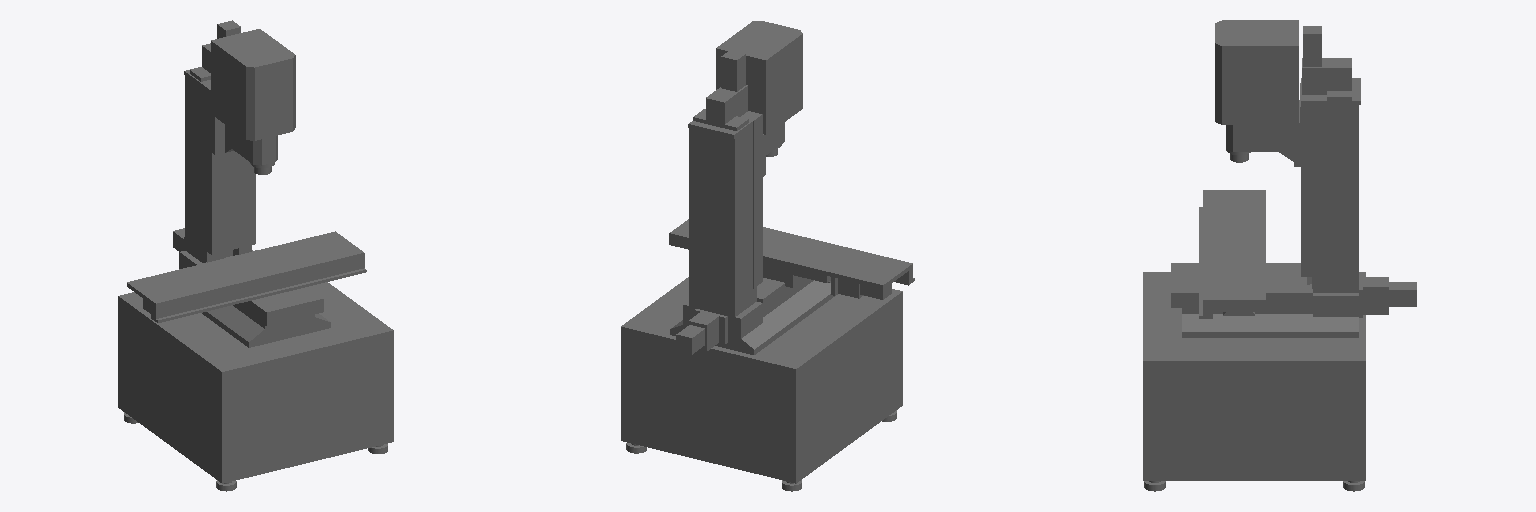
robot.urdf — tormach_pcnc_1100:
<?xml version="1.0" ?>
<!-- =================================================================================== -->
<!-- |    This document was autogenerated by xacro from tormach_pcnc_1100.xacro        | -->
<!-- |    EDITING THIS FILE BY HAND IS NOT RECOMMENDED                                 | -->
<!-- =================================================================================== -->
<robot name="tormach_pcnc_1100" xmlns:xacro="http://www.ros.org/wiki/xacro">
  <material name="DarkGray">
    <color rgba="0.5 0.5 0.5 0.99"/>
  </material>
  <!-- link list -->
  <link name="frame">
    <visual>
      <geometry>
        <mesh filename="package://tormach_pcnc_1100_support/meshes/frame.stl"/>
      </geometry>
      <origin rpy="0.0 0 0.0" xyz="0 0 0"/>
      <material name="DarkGray">
        </material>
    </visual>
    <collision>
      <geometry>
        <mesh filename="package://tormach_pcnc_1100_support/meshes/frame.stl"/>
      </geometry>
      <origin rpy="0.0 0 0.0" xyz="0 0 0"/>
    </collision>
  </link>
  <link name="y_axis">
    <visual>
      <geometry>
        <mesh filename="package://tormach_pcnc_1100_support/meshes/y_slide.stl"/>
      </geometry>
      <origin rpy="0.0 0 0.0" xyz="0 0 0"/>
      <material name="DarkGray">
        </material>
    </visual>
    <collision>
      <geometry>
        <mesh filename="package://tormach_pcnc_1100_support/meshes/y_slide.stl"/>
      </geometry>
      <origin rpy="0.0 0 0.0" xyz="0 0 0"/>
    </collision>
    <inertial>
      <mass value="100"/>
      <inertia ixx="1.0" ixy="0.0" ixz="0.0" iyy="1.0" iyz="0.0" izz="1.0"/>
    </inertial>
  </link>
  <link name="x_axis">
    <visual>
      <geometry>
        <mesh filename="package://tormach_pcnc_1100_support/meshes/x_slide.stl"/>
      </geometry>
      <origin rpy="0.0 0 0.0" xyz="0 0 0"/>
      <material name="DarkGray">
        </material>
    </visual>
    <collision>
      <geometry>
        <mesh filename="package://tormach_pcnc_1100_support/meshes/x_slide.stl"/>
      </geometry>
      <origin rpy="0.0 0 0.0" xyz="0 0 0"/>
    </collision>
    <inertial>
      <mass value="100"/>
      <inertia ixx="1.0" ixy="0.0" ixz="0.0" iyy="1.0" iyz="0.0" izz="1.0"/>
    </inertial>
  </link>
  <link name="z_axis">
    <visual>
      <geometry>
        <mesh filename="package://tormach_pcnc_1100_support/meshes/z_slide.stl"/>
      </geometry>
      <origin rpy="0.0 0 0.0" xyz="0 0 0"/>
      <material name="DarkGray">
        </material>
    </visual>
    <collision>
      <geometry>
        <mesh filename="package://tormach_pcnc_1100_support/meshes/z_slide.stl"/>
      </geometry>
      <origin rpy="0.0 0 0.0" xyz="-0 0 0"/>
    </collision>
    <inertial>
      <mass value="100"/>
      <inertia ixx="1.0" ixy="0.0" ixz="0.0" iyy="1.0" iyz="0.0" izz="1.0"/>
    </inertial>
  </link>
  <!-- joint list -->
  <joint name="y_joint" type="prismatic">
    <limit effort="1000.0" lower="-0.12065" upper="0.12065" velocity="0.5"/>
    <parent link="frame"/>
    <child link="y_axis"/>
    <axis xyz="0 1 0"/>
    <origin rpy="0.0 0.0 0.0" xyz="0 0 0.820"/>
  </joint>
  <joint name="x_joint" type="prismatic">
    <limit effort="1000.0" lower="-0.2286" upper="0.2286" velocity="0.5"/>
    <parent link="y_axis"/>
    <child link="x_axis"/>
    <axis xyz="1 0 0"/>
    <origin xyz="0 0 0.075"/>
  </joint>
  <joint name="z_joint" type="prismatic">
    <limit effort="1000.0" lower="-0.41275" upper="0" velocity="0.5"/>
    <parent link="frame"/>
    <child link="z_axis"/>
    <axis xyz="0 0 1"/>
    <origin xyz="0.0 0.304 1.783"/>
  </joint>
  <!-- 'world' frame: default pose reference frame -->
  <link name="world"/>
  <joint name="world-frame" type="fixed">
    <origin rpy="0 0 0" xyz="0 0 0"/>
    <axis xyz="0 0 1"/>
    <parent link="world"/>
    <child link="frame"/>
  </joint>
</robot>

--- What the picture shows (computed from the rendered views, not written in the file) ---
The picture shows the robot from 3 angles, left to right: view 1: azimuth 30°, elevation 25°; view 2: azimuth 150°, elevation 25°; view 3: azimuth 270°, elevation 25°; orthographic projection.
Model tormach_pcnc_1100 with 5 links and 4 joints (3 prismatic, 1 fixed), rooted at world, posed all joints at 0.
Visible links, largest first — view 1: frame, x_axis, z_axis; view 2: frame, z_axis, x_axis; view 3: frame, z_axis, x_axis.
Boxes of the visible links, x1,y1,x2,y2 form: frame: (118, 20, 393, 491); x_axis: (127, 231, 366, 322); z_axis: (206, 29, 295, 174); frame: (621, 50, 902, 491); z_axis: (716, 21, 802, 180); x_axis: (669, 219, 914, 299); frame: (1143, 26, 1416, 491); z_axis: (1215, 20, 1300, 166); x_axis: (1199, 190, 1265, 318).
Bounding box of the posed robot: 1.17 × 1.24 × 2.08 m (x, y, z).
4 mesh visuals loaded from 4 distinct referenced files (4 binary STL).
